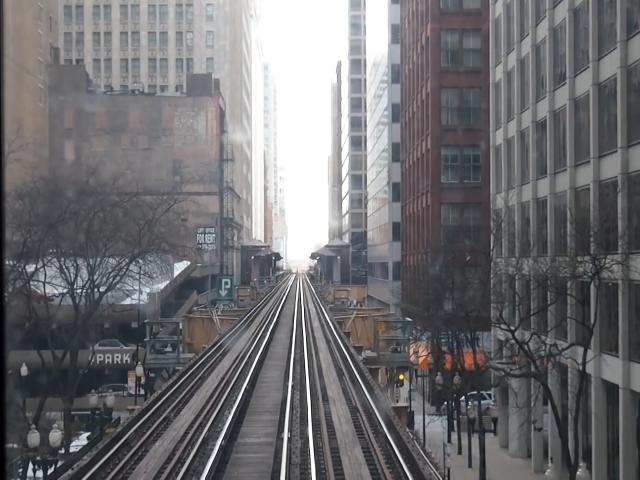signal light: (398, 368, 406, 386)
